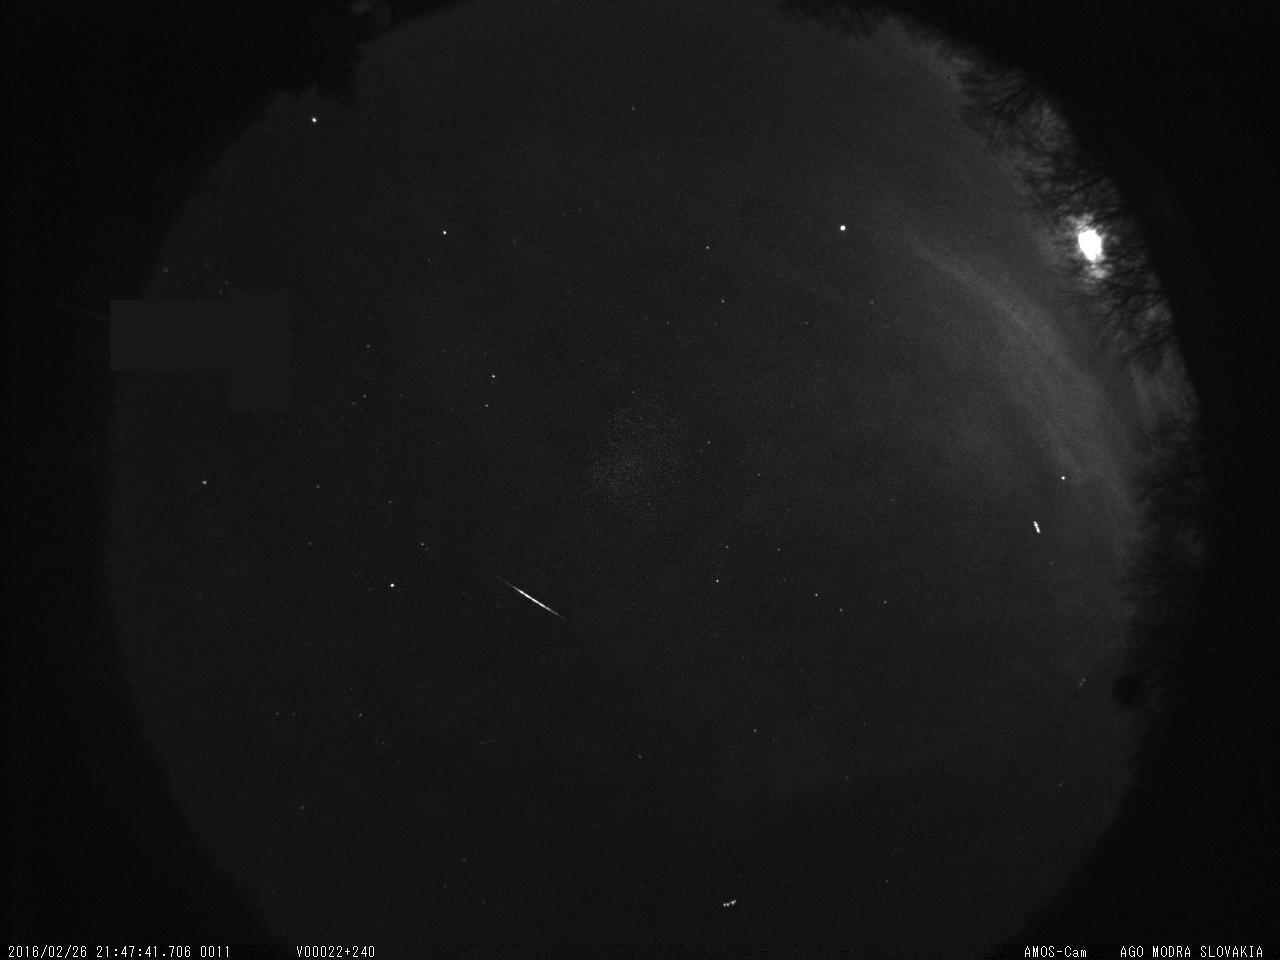Meteor: (488, 570, 572, 629)
